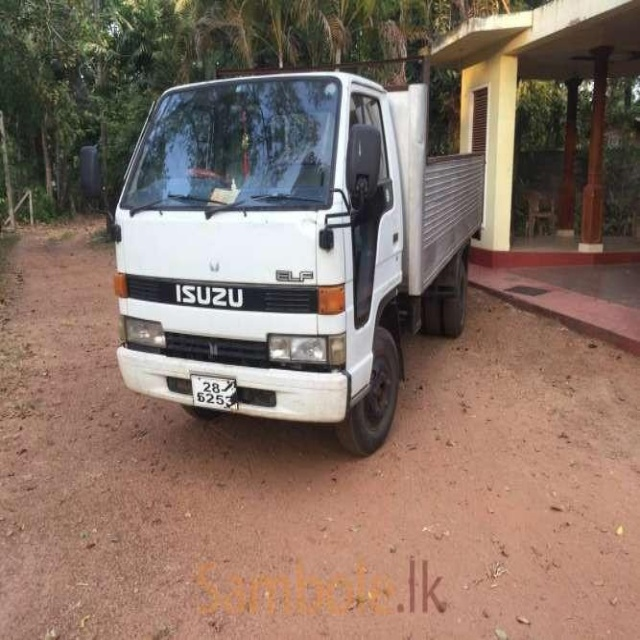Truck: (81, 56, 485, 458)
